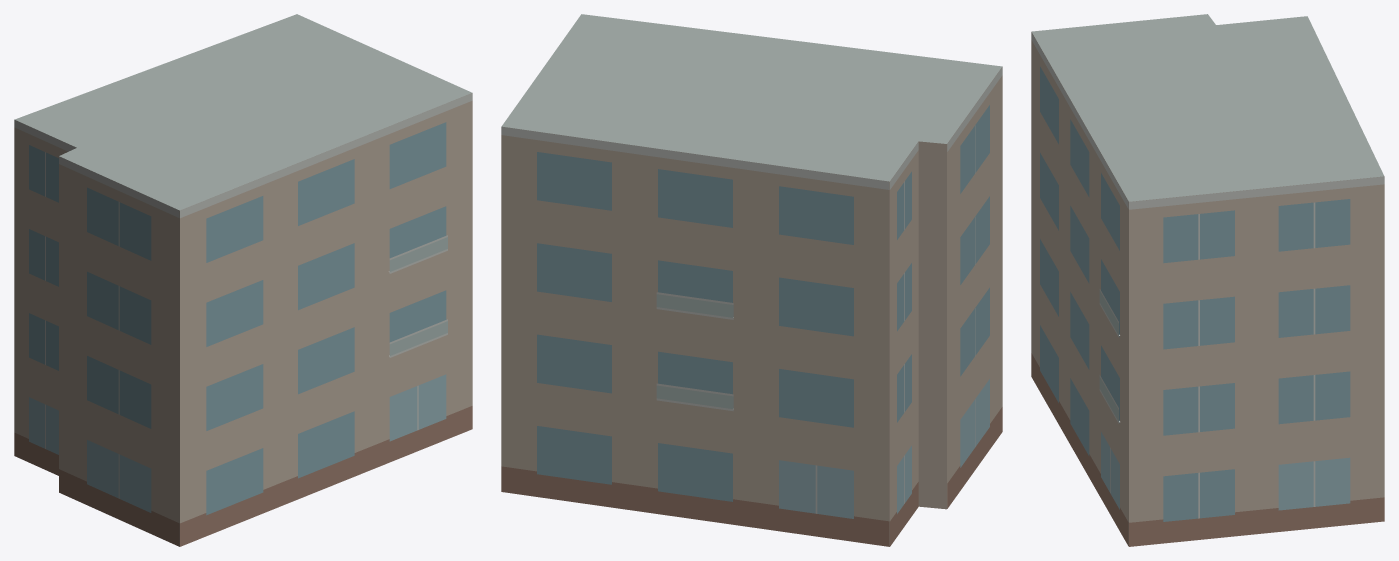
File: survey-upis-32920829.glb
The picture shows the model from 3 angles, left to right: view 1: azimuth 30°, elevation 25°; view 2: azimuth 150°, elevation 25°; view 3: azimuth 270°, elevation 25°; orthographic projection. The views are drawn at different scales.
Parts seen in each view (by area): view 1: survey-upis-32920829.tmp; view 2: survey-upis-32920829.tmp; view 3: survey-upis-32920829.tmp.
Boxes of the visible parts, x1,y1,x2,y2 form: survey-upis-32920829.tmp: (14,14,472,546); survey-upis-32920829.tmp: (501,14,1002,546); survey-upis-32920829.tmp: (1031,14,1384,546).
Bounding box in the file's own units: 12.27 × 10.5 × 9.75.
